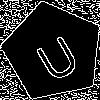U: (28, 26, 84, 84)
